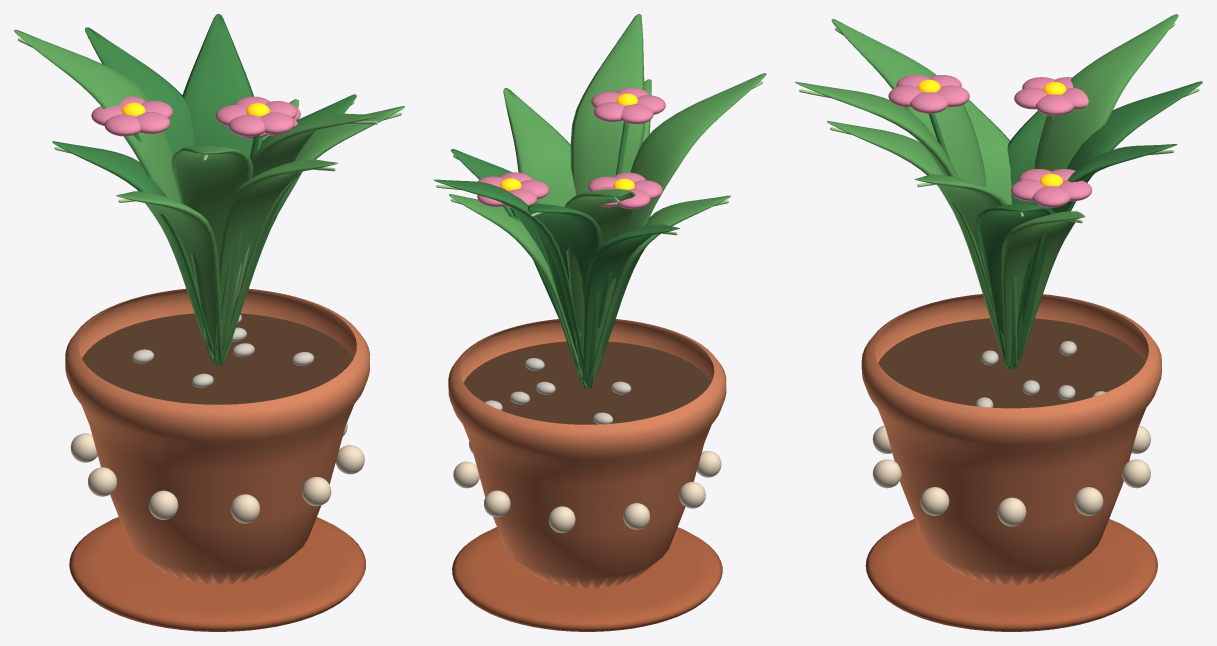
The model's file is planta.glb.
The picture shows the model from 3 angles, left to right: view 1: azimuth 30°, elevation 25°; view 2: azimuth 150°, elevation 25°; view 3: azimuth 270°, elevation 25°; orthographic projection. The views are drawn at different scales.
Visible parts, largest first — view 1: matera, plato matera, tierra, hoja 7, hoja 3, hoja 1, hoja 2, hoja 4, hoja 6, hoja 10, hoja 9, hoja 5 (+11 smaller); view 2: matera, plato matera, tierra, hoja 10, hoja 7, hoja 5, hoja 6, hoja 9, hoja 1, hoja 3, hoja 8, hoja 4 (+9 smaller); view 3: matera, plato matera, tierra, hoja 1, hoja 7, hoja 8, hoja 0, hoja 5, hoja 6, hoja 10, hoja 2, hoja 4 (+10 smaller).
Boxes of the visible parts, x1,y1,x2,y2 form: matera: [65, 288, 370, 584]; plato matera: [69, 517, 365, 631]; tierra: [82, 313, 353, 404]; hoja 7: [171, 145, 253, 359]; hoja 3: [182, 14, 253, 157]; hoja 1: [14, 29, 216, 365]; hoja 2: [213, 159, 337, 364]; hoja 4: [116, 191, 222, 364]; hoja 6: [85, 27, 213, 364]; hoja 10: [214, 113, 381, 364]; hoja 9: [52, 141, 217, 365]; hoja 5: [218, 106, 404, 365]; matera: [448, 319, 726, 588]; plato matera: [452, 527, 722, 631]; tierra: [463, 341, 710, 424]; hoja 10: [570, 14, 645, 195]; hoja 7: [589, 73, 766, 388]; hoja 5: [503, 88, 583, 387]; hoja 6: [527, 204, 601, 388]; hoja 9: [583, 224, 679, 388]; hoja 1: [564, 189, 635, 386]; hoja 3: [433, 179, 589, 388]; hoja 8: [449, 194, 586, 388]; hoja 4: [587, 195, 730, 389]; matera: [861, 294, 1161, 584]; plato matera: [865, 519, 1157, 631]; tierra: [878, 318, 1145, 408]; hoja 1: [1014, 14, 1178, 369]; hoja 7: [831, 19, 1009, 369]; hoja 8: [1001, 211, 1085, 369]; hoja 0: [976, 204, 1054, 366]; hoja 5: [914, 174, 1016, 368]; hoja 6: [1012, 81, 1202, 369]; hoja 10: [795, 81, 1012, 369]; hoja 2: [827, 120, 1012, 369]; hoja 4: [963, 100, 1011, 368].
Bounding box in the file's own units: 0.4566 × 0.8399 × 0.5912.
